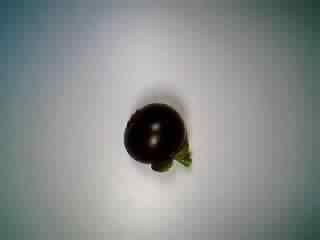mangosteen: (121, 94, 195, 179)
